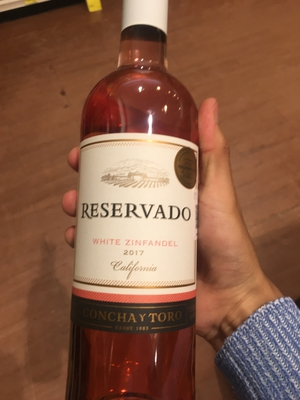reservado white zinfandel: (73, 12, 207, 400)
